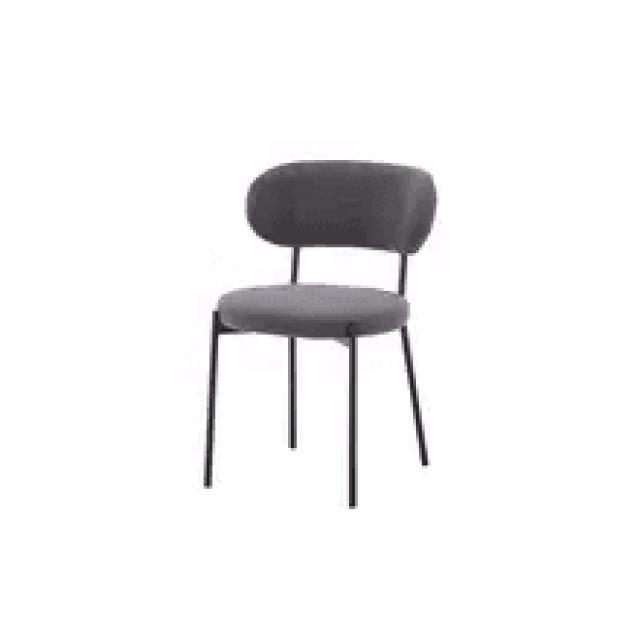chair: (194, 152, 440, 512), (210, 150, 444, 363)
